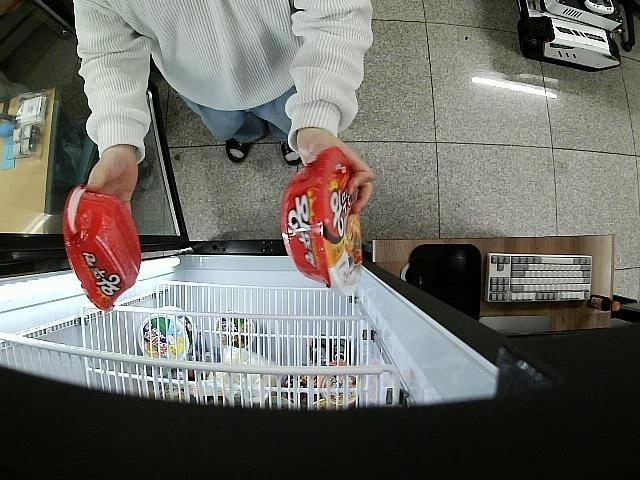10_wangTtukkeong: (283, 148, 362, 295), (64, 188, 140, 311)
